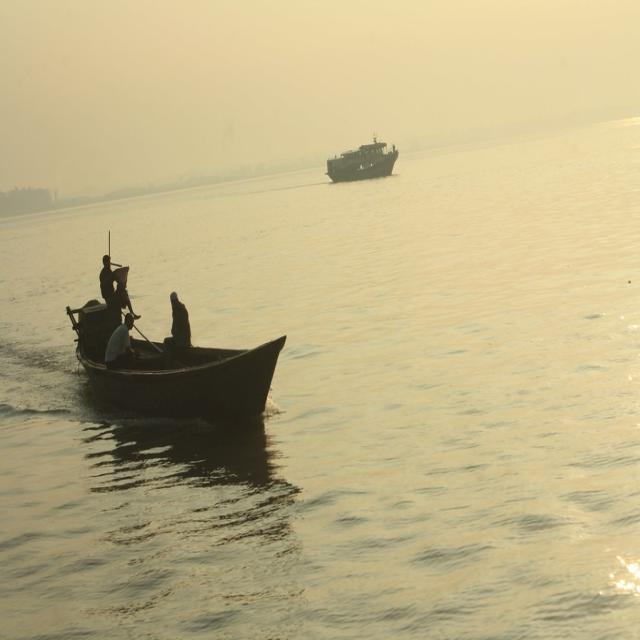boat: (69, 282, 297, 414), (316, 126, 415, 194)
